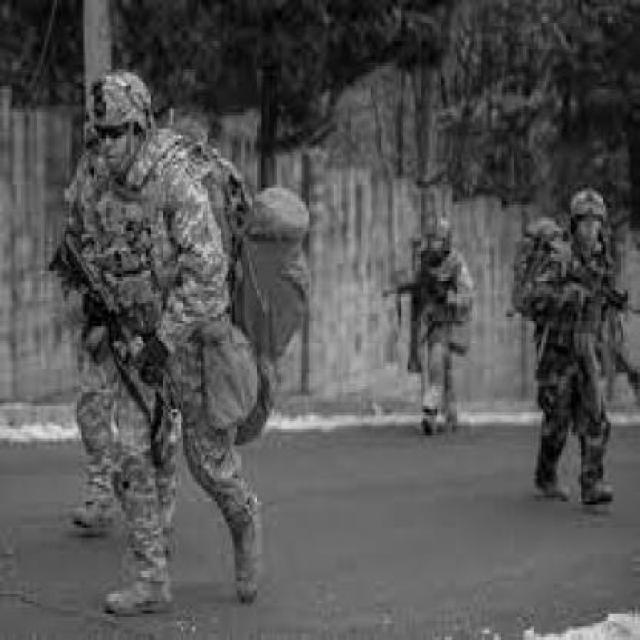Person: (55, 68, 310, 617), (509, 187, 626, 506), (404, 214, 473, 434)
